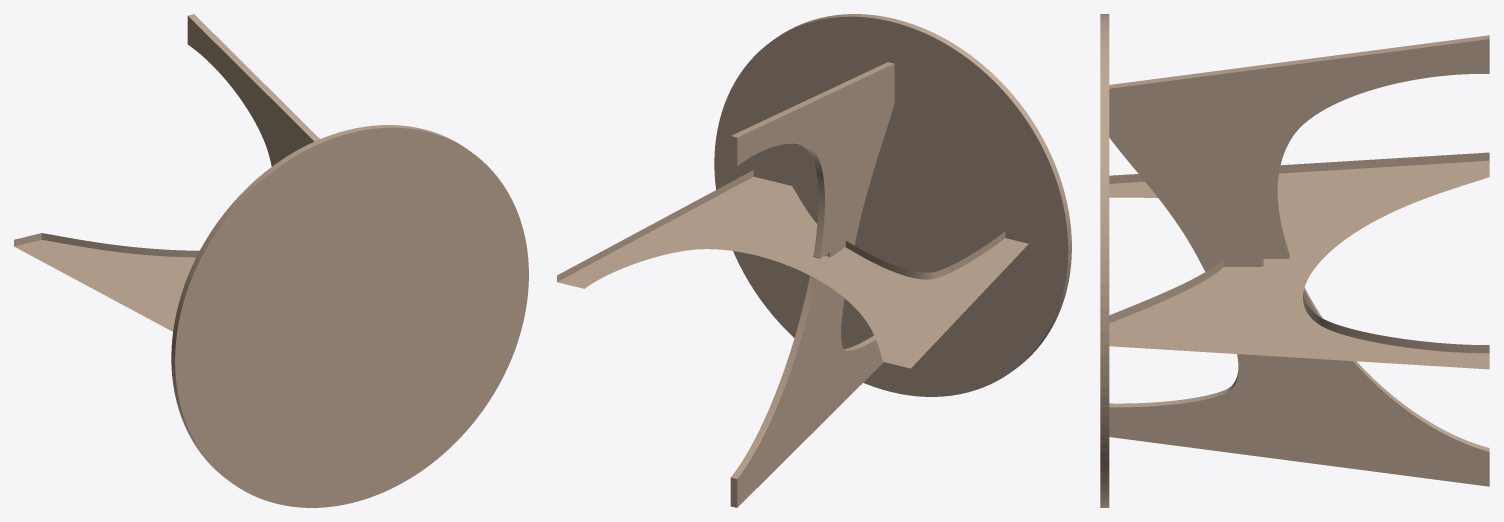
Rendered from NODO_MESA_REDONDA_CRUZ_PARAISO_V1.glb.
3 views of the same model, side by side, from view 1: azimuth 30°, elevation 25°; view 2: azimuth 150°, elevation 25°; view 3: azimuth 270°, elevation 25° (orthographic). The views are drawn at different scales.
Parts seen in each view (by area): view 1: Tapa_D1000, Pata_A, Pata_B; view 2: Tapa_D1000, Pata_B, Pata_A; view 3: Pata_B, Pata_A, Tapa_D1000.
Boxes of the visible parts, box(x1,y1,x2,y2) form: Tapa_D1000: box(171, 125, 528, 507); Pata_A: box(14, 233, 199, 331); Pata_B: box(187, 14, 319, 166); Tapa_D1000: box(714, 14, 1071, 396); Pata_B: box(730, 62, 894, 507); Pata_A: box(557, 170, 1028, 368); Pata_B: box(1109, 35, 1489, 486); Pata_A: box(1109, 152, 1489, 369); Tapa_D1000: box(1100, 14, 1109, 507).
Bounding box in the file's own units: 1000 × 1000 × 788.
